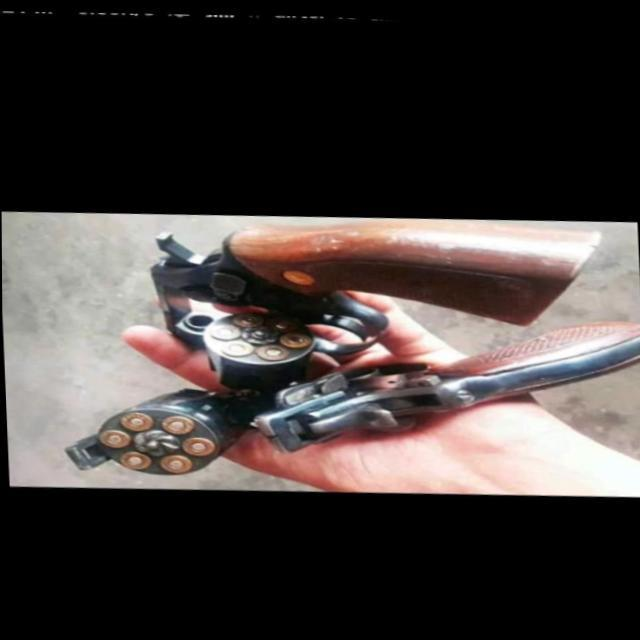weapon: (47, 189, 640, 499)
